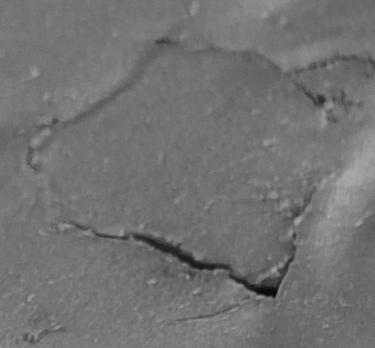paint-off: (0, 1, 375, 348)
